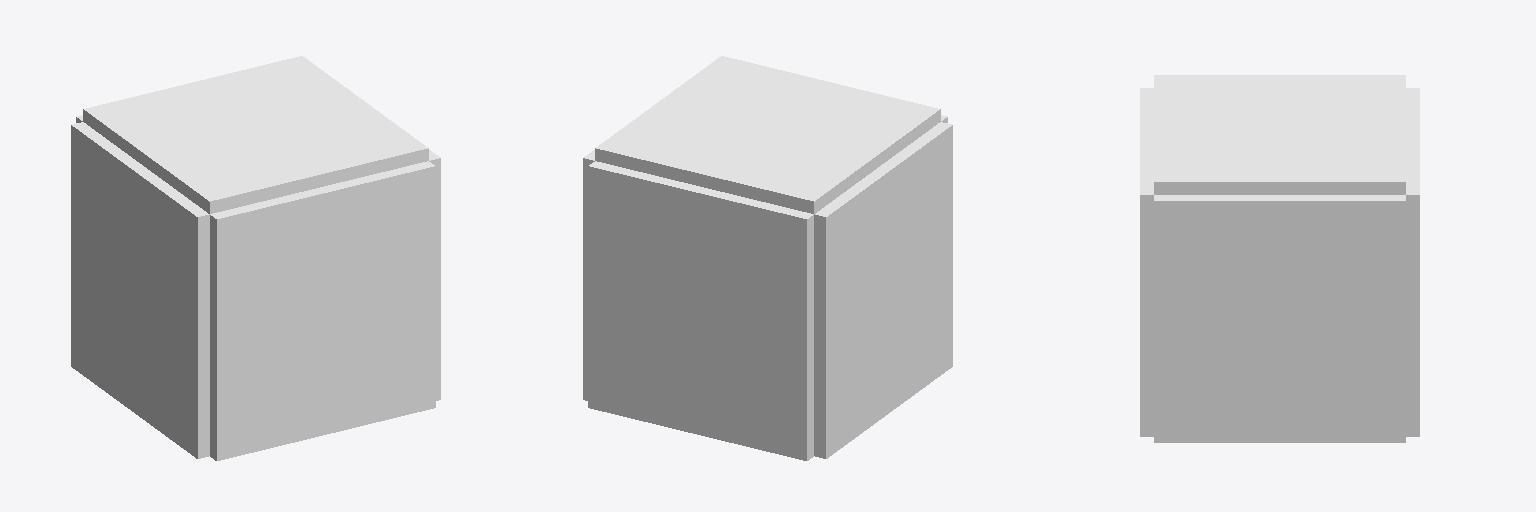
Rendered from weak_2.obj.
The picture shows the model from 3 angles: view 1: azimuth 30°, elevation 25°; view 2: azimuth 150°, elevation 25°; view 3: azimuth 270°, elevation 25°; orthographic projection.
Visible parts, largest first — view 1: object 1; view 2: object 1; view 3: object 1.
Boxes of the visible parts, <box> form: object 1: <box>71,56,440,460</box>; object 1: <box>583,56,952,460</box>; object 1: <box>1140,75,1419,442</box>.
Bounding box in the file's own units: 4 × 4 × 4.